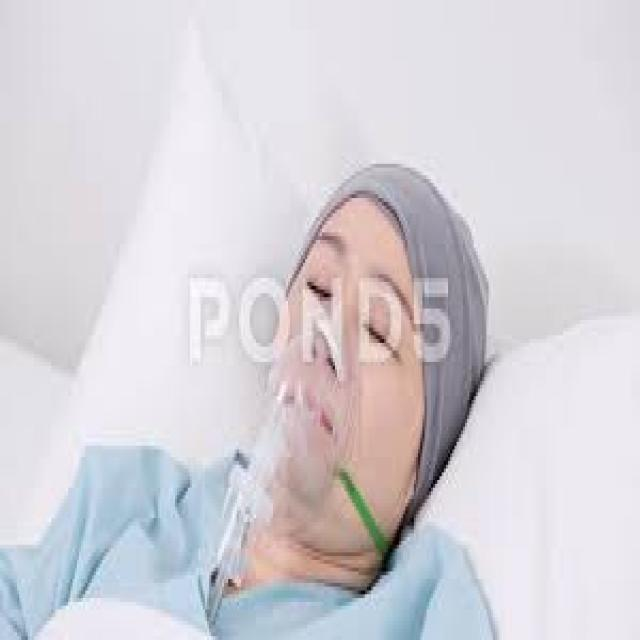oxygen_mask: (244, 370, 370, 595)
